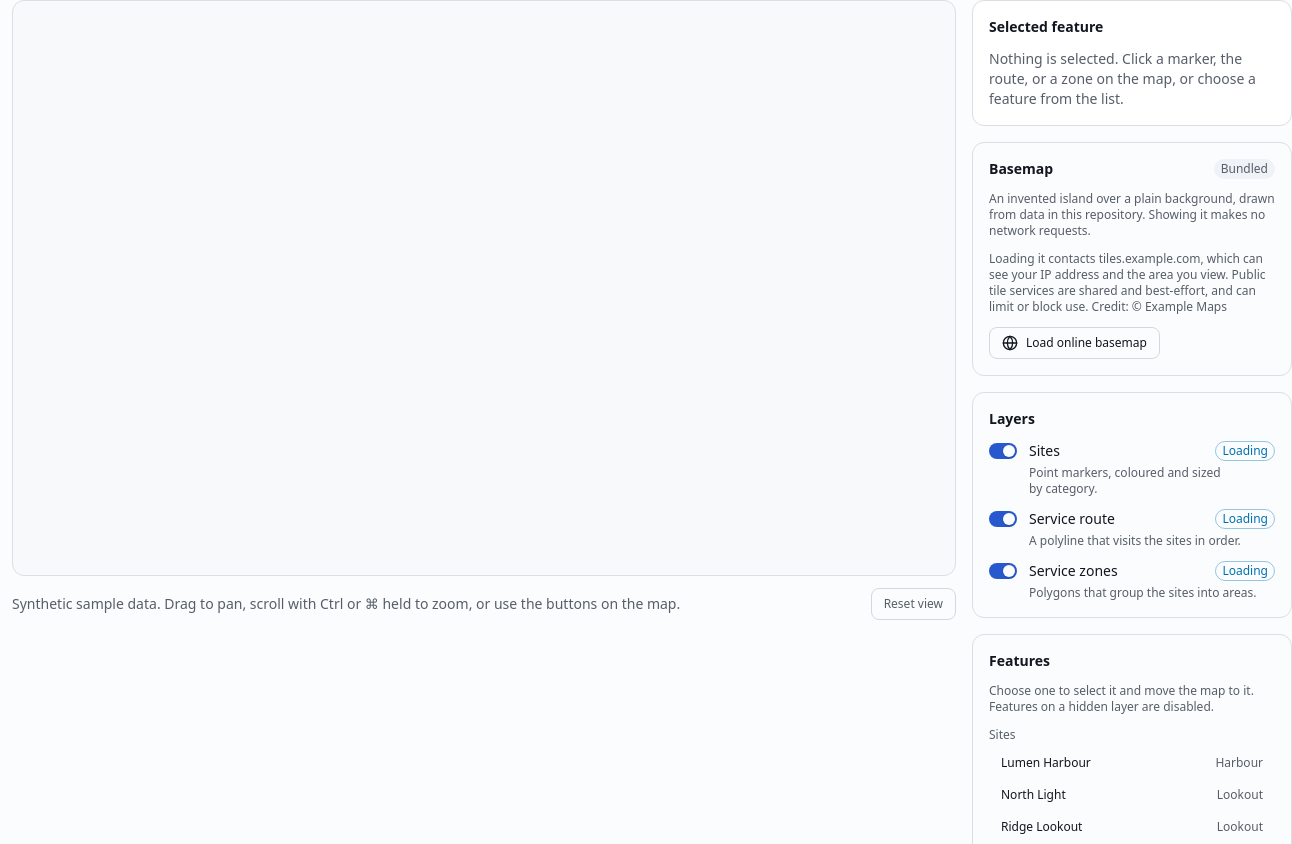
it: the online basemap › falls back to the bundled basemap and says why when the map gives up on the provider
Click the button "Load online basemap": click(1074, 343) [989,327,1160,359]
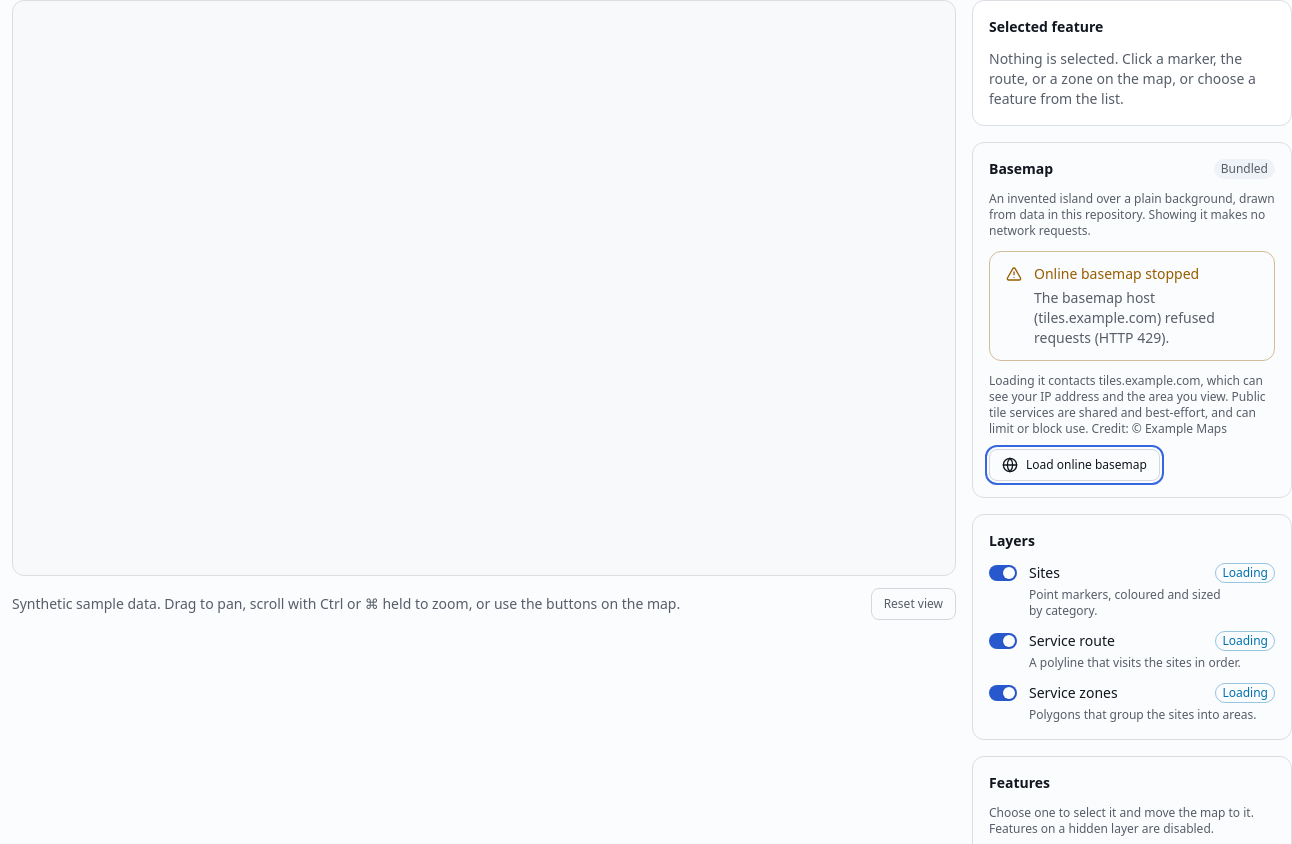
Expected: the text "Bundled" is shown, [1214,159,1275,179]
Now the text "Online basemap stopped" is shown, box [1034,264,1199,283]
Now the text "refused requests (HTTP 429)" is shown, box [1034,288,1215,347]
